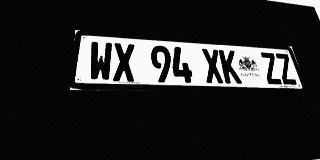4: (170, 46, 193, 83)
9: (150, 45, 173, 82)
K: (218, 50, 242, 84)
W: (88, 41, 112, 81)
X: (113, 43, 135, 82), (201, 48, 225, 83)
Z: (259, 52, 283, 84), (274, 53, 298, 85)
